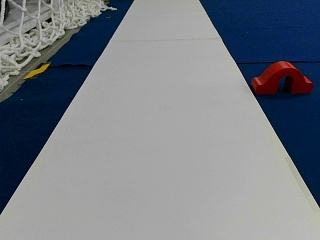bridge: (253, 61, 312, 93)
